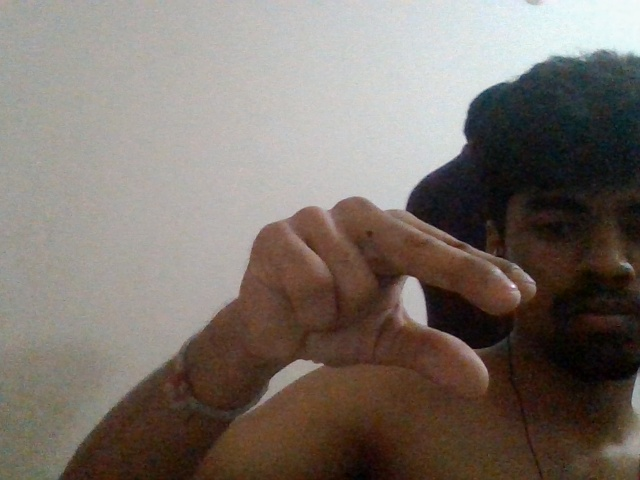No: (228, 195, 547, 410)
